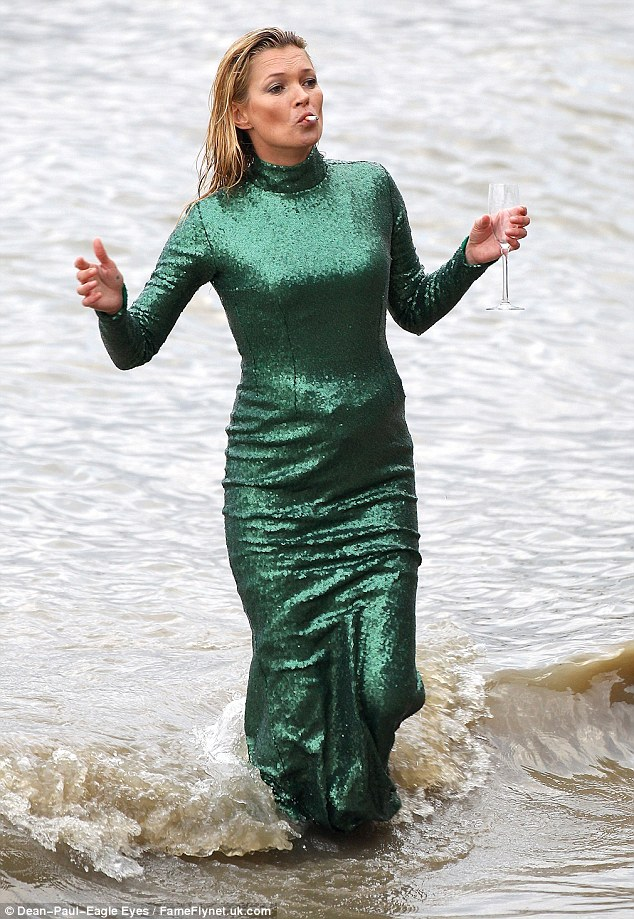cigarette: (297, 109, 322, 130)
